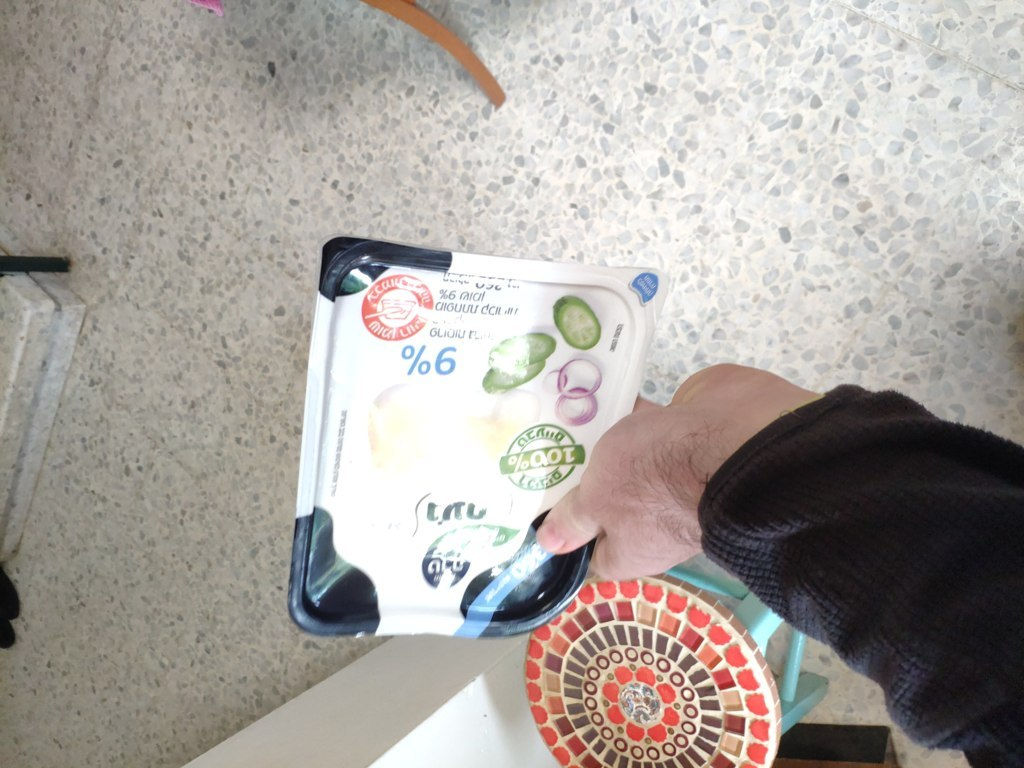Cheese: (370, 237, 776, 630)
